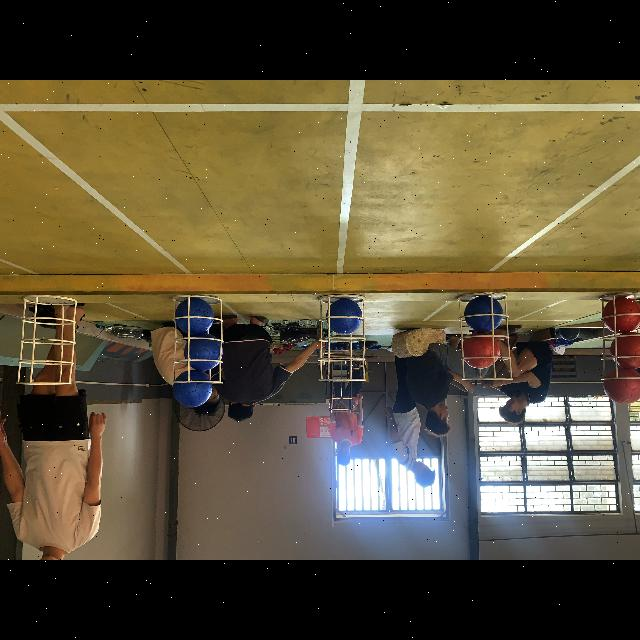B: (174, 370, 212, 408), (464, 296, 504, 332), (175, 298, 213, 334), (184, 334, 222, 370), (326, 299, 362, 335)
R: (462, 333, 500, 369), (604, 296, 640, 334), (602, 370, 640, 404), (610, 334, 640, 370)
